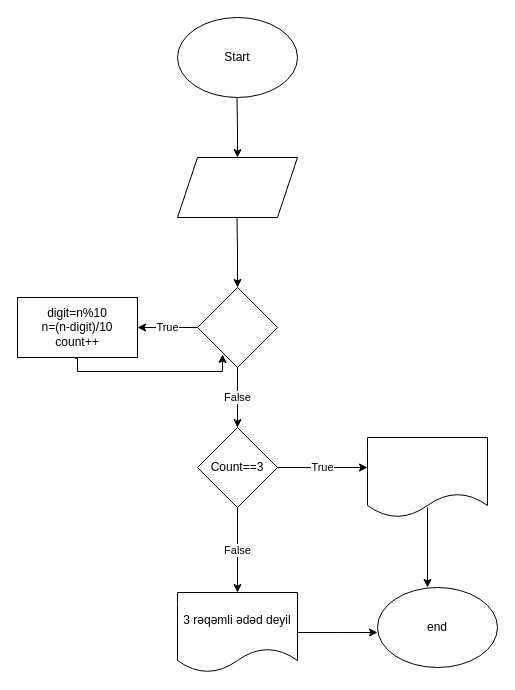
Some shapes in this 515 by 690 pixel diagram are drawn without their labels. The shapes that lost their labels are listed below. From the top down, each one's centre as x and y in pixels, then its label:
At (x=237, y=187): "n, count=0".
At (x=237, y=327): "n>0".
At (x=427, y=477): "3 rəqəmli ədəddir".
